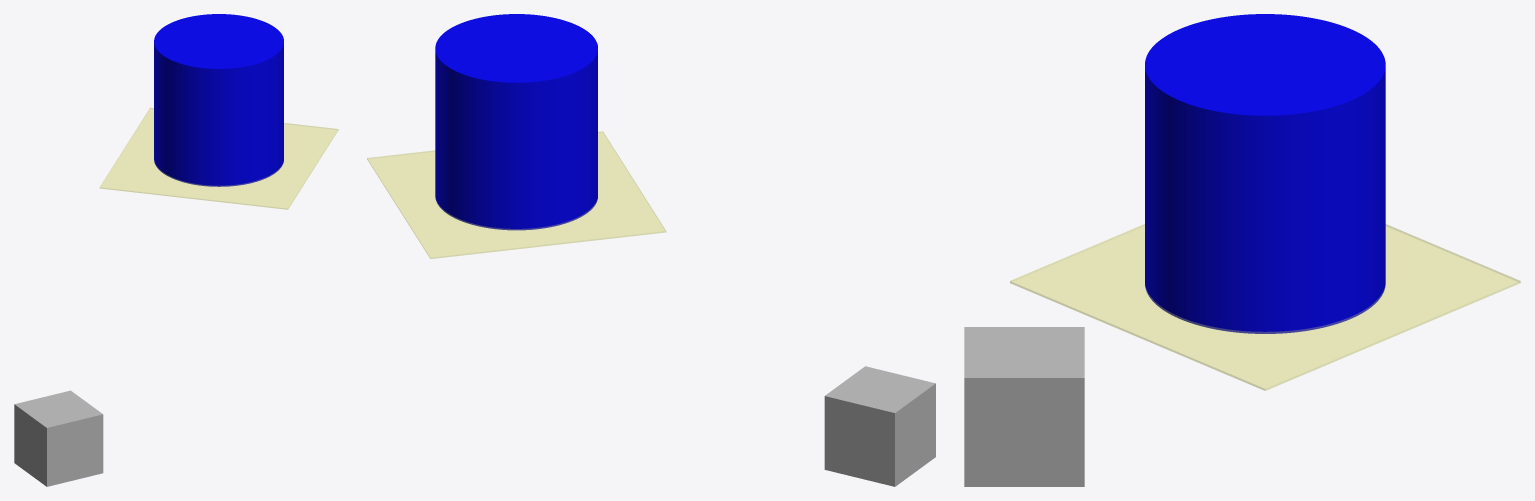
Rendered from transformed_workplane_assembly.gltf.
3 renders of one model, left to right at view 1: azimuth 30°, elevation 25°; view 2: azimuth 150°, elevation 25°; view 3: azimuth 270°, elevation 25°, orthographic. The views are drawn at different scales.
Visible parts, largest first — view 1: transformed_cylinder_part, transformed_plane_visualization_part, reference_origin_box_part; view 2: transformed_cylinder_part, transformed_plane_visualization_part, reference_origin_box_part; view 3: transformed_cylinder_part, transformed_plane_visualization_part, reference_origin_box_part.
Part boxes in pixels (x1,y1,x2,y2): transformed_cylinder_part: (154, 14, 283, 186); transformed_plane_visualization_part: (99, 107, 338, 209); reference_origin_box_part: (14, 390, 103, 486); transformed_cylinder_part: (435, 14, 597, 230); transformed_plane_visualization_part: (367, 131, 666, 258); reference_origin_box_part: (824, 366, 935, 486); transformed_cylinder_part: (1145, 14, 1385, 333); transformed_plane_visualization_part: (1010, 224, 1520, 390); reference_origin_box_part: (964, 327, 1084, 486).
Bounding box in the file's own units: 33.11 × 27.5 × 23.11.
